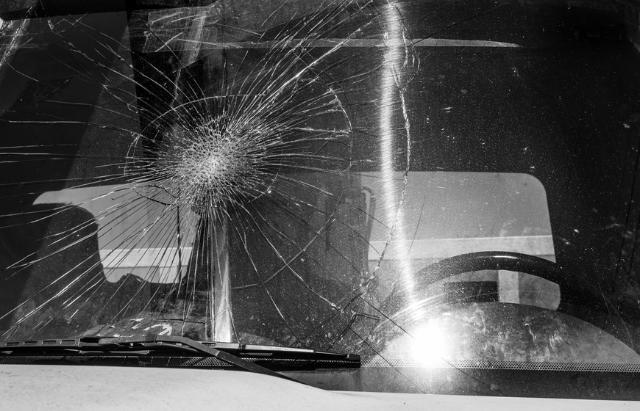Windshield: (6, 13, 592, 377)
